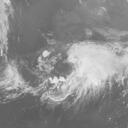cyclone: (41, 39, 115, 105)
